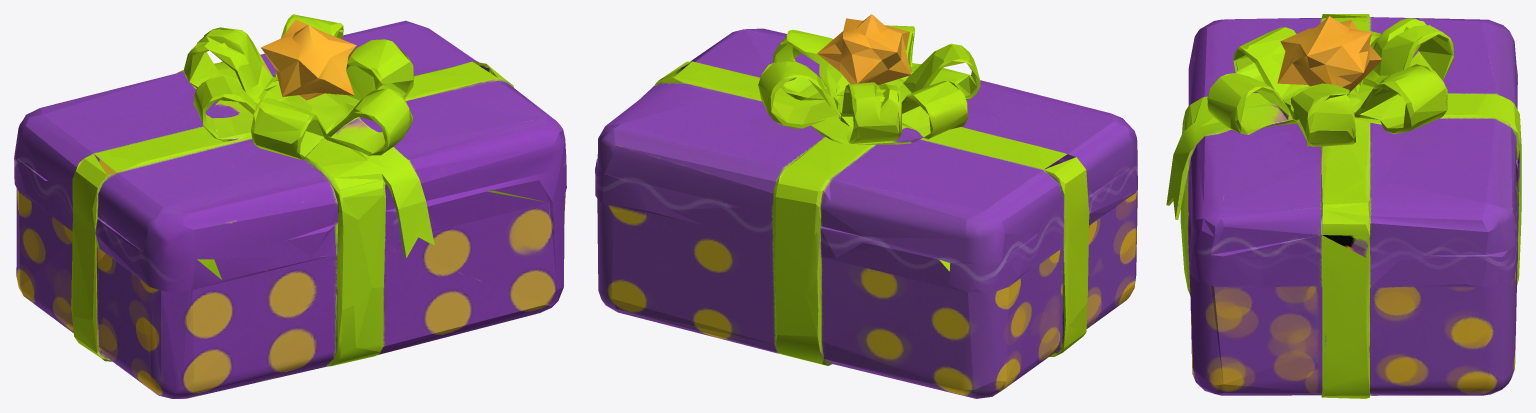
3 views of the same model, side by side, from view 1: azimuth 30°, elevation 25°; view 2: azimuth 150°, elevation 25°; view 3: azimuth 270°, elevation 25° (orthographic). The views are drawn at different scales.
Visible parts, largest first — view 1: output_unwrapped; view 2: output_unwrapped; view 3: output_unwrapped.
Boxes of the visible parts, x1,y1,x2,y2 form: output_unwrapped: (14,14,566,398); output_unwrapped: (595,14,1137,398); output_unwrapped: (1166,14,1521,398).
Bounding box in the file's own units: 1.9 × 1.25 × 1.37.
Materials: 1 (1 with a texture image).
